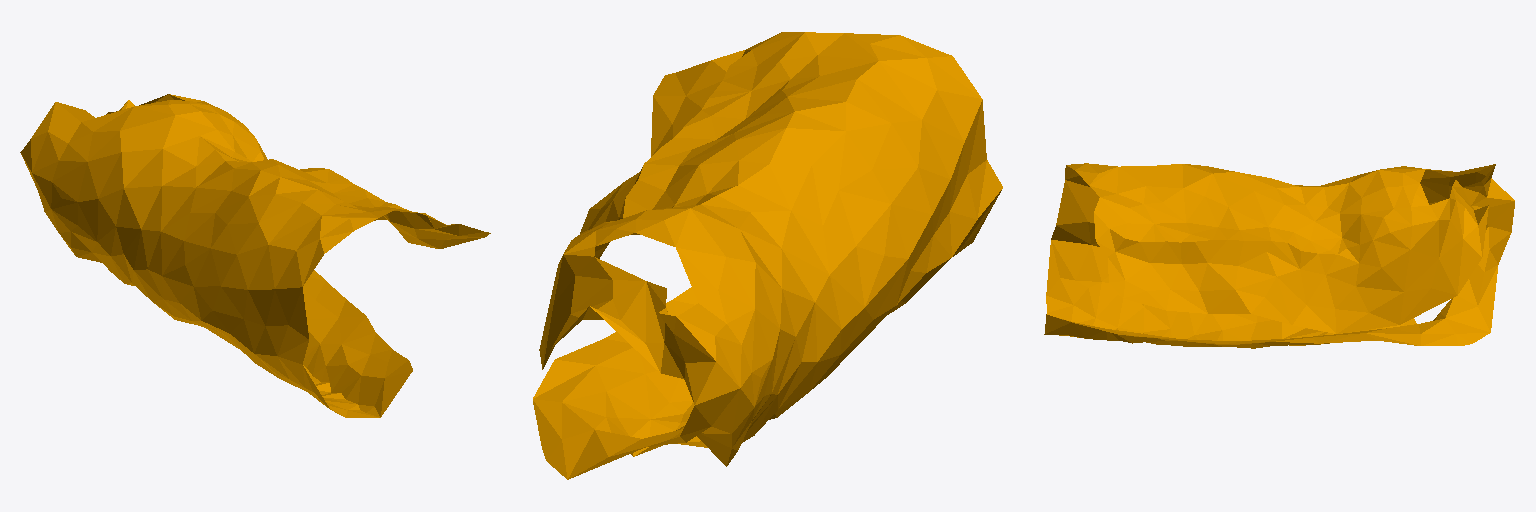
The robot description file, URDF, robot "init":
<?xml version='1.0' encoding='utf-8'?>
<robot name="init">
<link name="link_0"><inertial><mass value="1.0" /><origin rpy="0 0 0" xyz="0.000000 0.000000 0.000000" /><inertia ixx="1.0" ixy="0.0" ixz="0.0" iyy="1.0" iyz="0.0" izz="1.0" /></inertial><visual><origin rpy="0 0 0" xyz="0.000000 0.000000 0.000000" /><geometry><mesh filename="./clothHuman/cloth/2842.obj" /></geometry></visual><collision><origin rpy="0 0 0" xyz="0.000000 0.000000 0.000000" /><geometry><mesh filename="./clothHuman/cloth/2842.obj" /></geometry></collision></link></robot>

--- What the picture shows (computed from the rendered views, not written in the file) ---
Views: 3 orthographic renders of the robot side by side, from view 1: azimuth 30°, elevation 25°; view 2: azimuth 150°, elevation 25°; view 3: azimuth 270°, elevation 25°.
Model init with 1 links and 0 joints (none), rooted at link_0, posed every joint at zero.
Links seen in each view (by area): view 1: link_0; view 2: link_0; view 3: link_0.
Boxes of the visible links, left/top/right/bottom form: link_0: left=20, top=94, right=490, bottom=417; link_0: left=533, top=32, right=1002, bottom=479; link_0: left=1044, top=163, right=1514, bottom=348.
Size in the robot's own frame: 2.22 by 3.86 by 1.55 metres.
1 mesh visuals loaded from 1 distinct referenced files (1 OBJ).